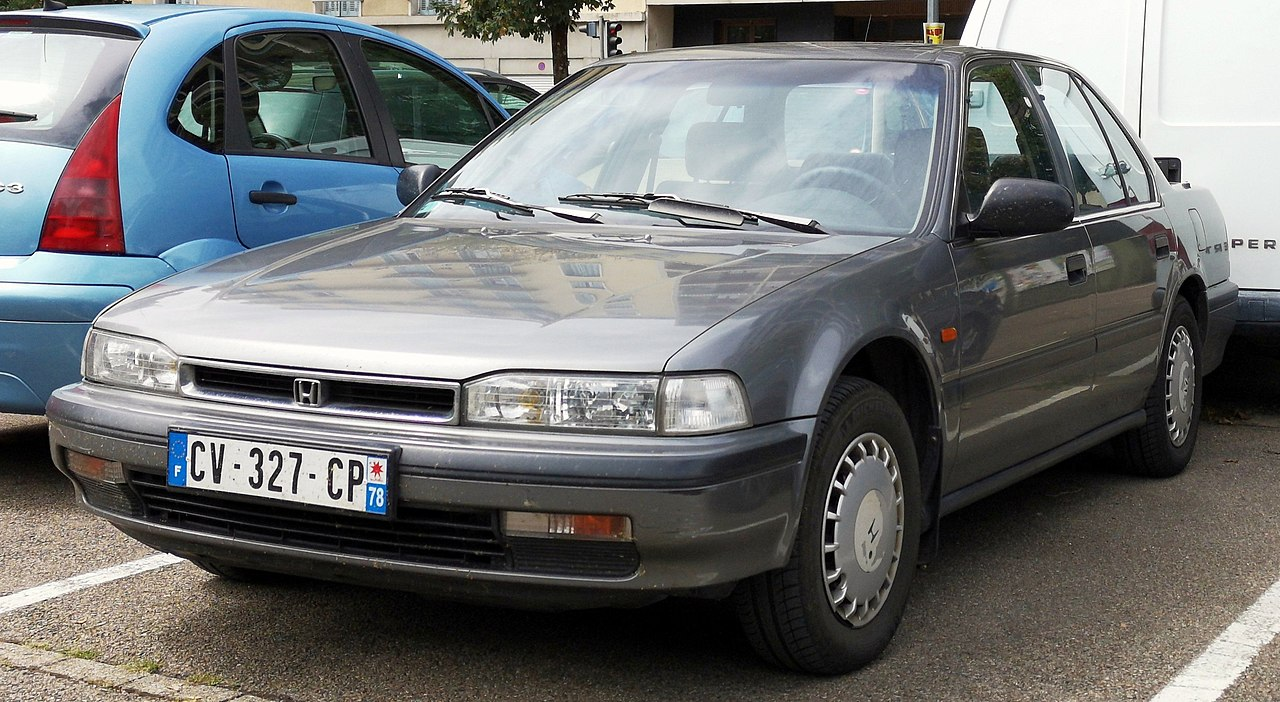plate: (167, 428, 388, 518)
